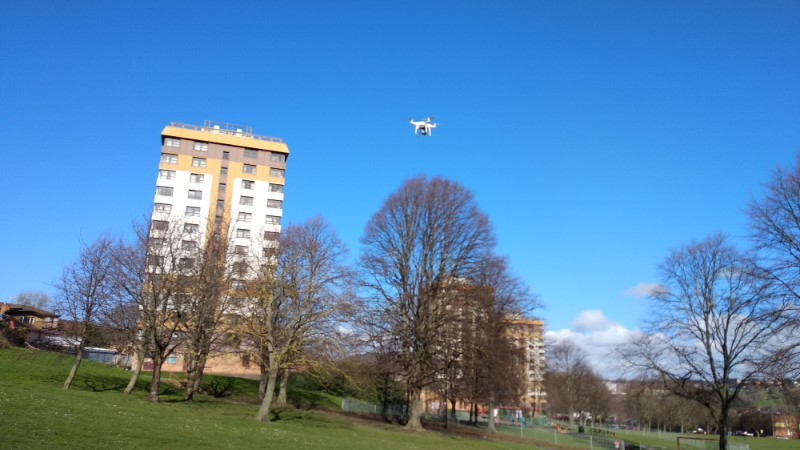drone: (405, 114, 443, 139)
